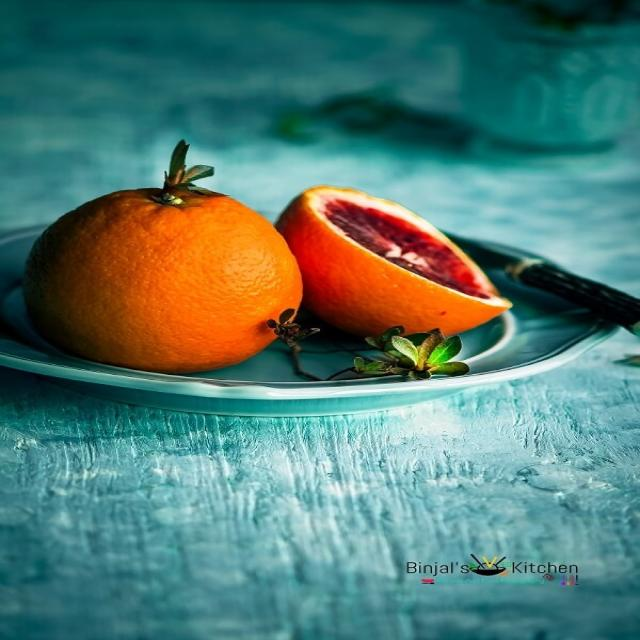Quả cam: (21, 139, 304, 373)
